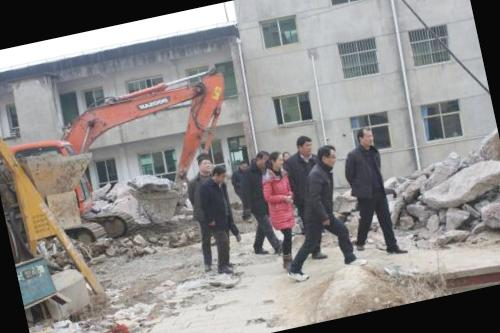no_helmet: (312, 143, 340, 173), (292, 131, 316, 160), (354, 124, 378, 151), (209, 163, 230, 188), (194, 152, 214, 178), (268, 148, 289, 172), (252, 147, 272, 172)
